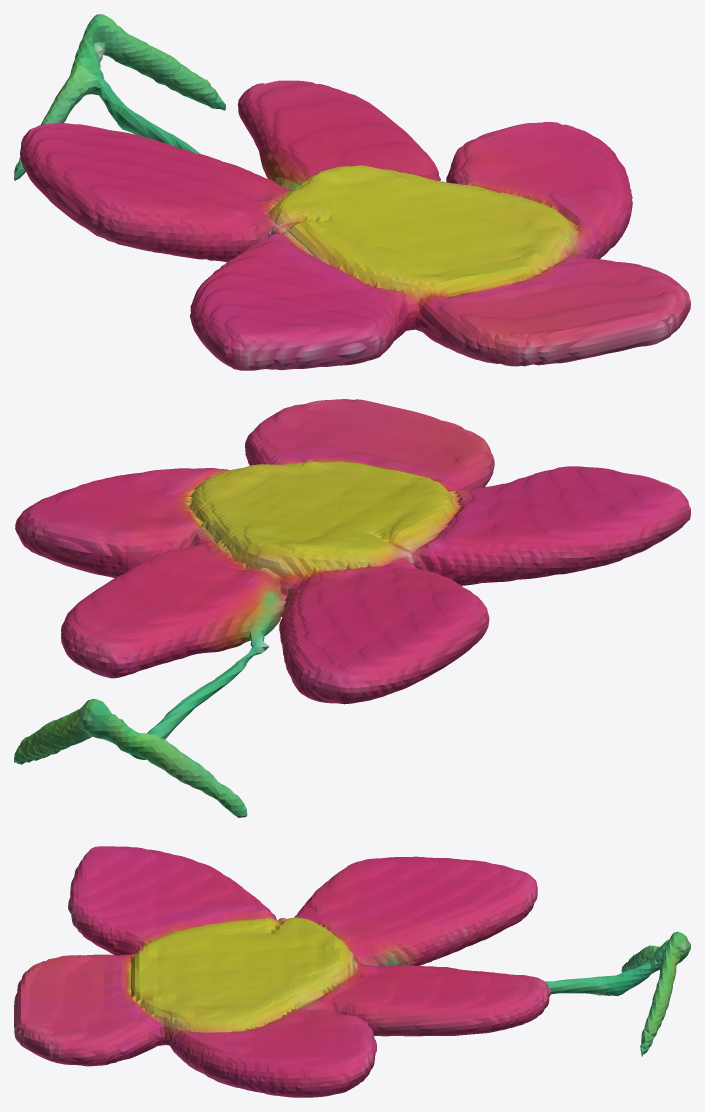
3 views of the same model, one above another, from view 1: azimuth 30°, elevation 25°; view 2: azimuth 150°, elevation 25°; view 3: azimuth 270°, elevation 25° (orthographic). The views are drawn at different scales.
Parts seen in each view (by area): view 1: world; view 2: world; view 3: world.
Boxes of the visible parts, x1,y1,x2,y2 form: world: (14, 14, 690, 370); world: (14, 399, 690, 817); world: (14, 846, 690, 1097).
Size of the model in its own units: 0.7316 by 0.1521 by 1.01.
